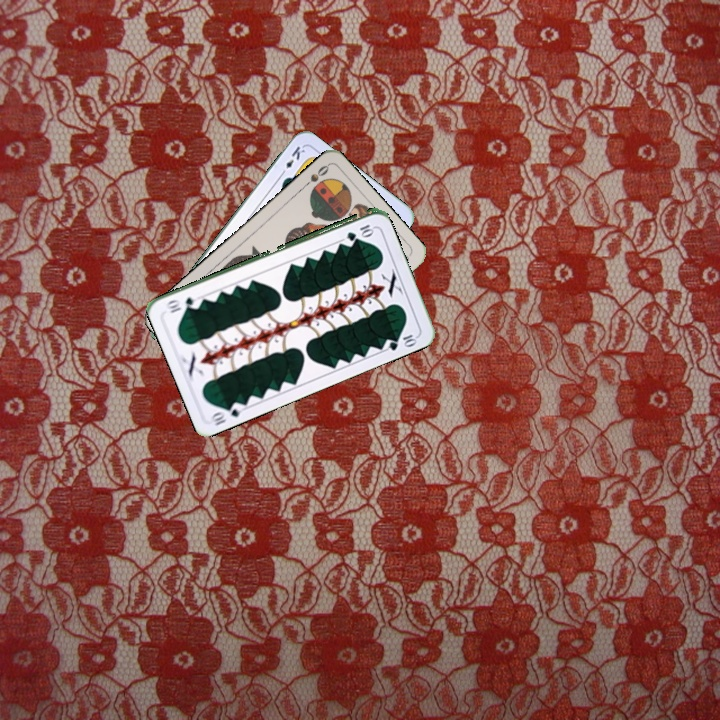EK: (276, 142, 308, 178)
G10: (207, 398, 247, 428), (342, 220, 376, 242)
SO: (298, 161, 331, 192)
